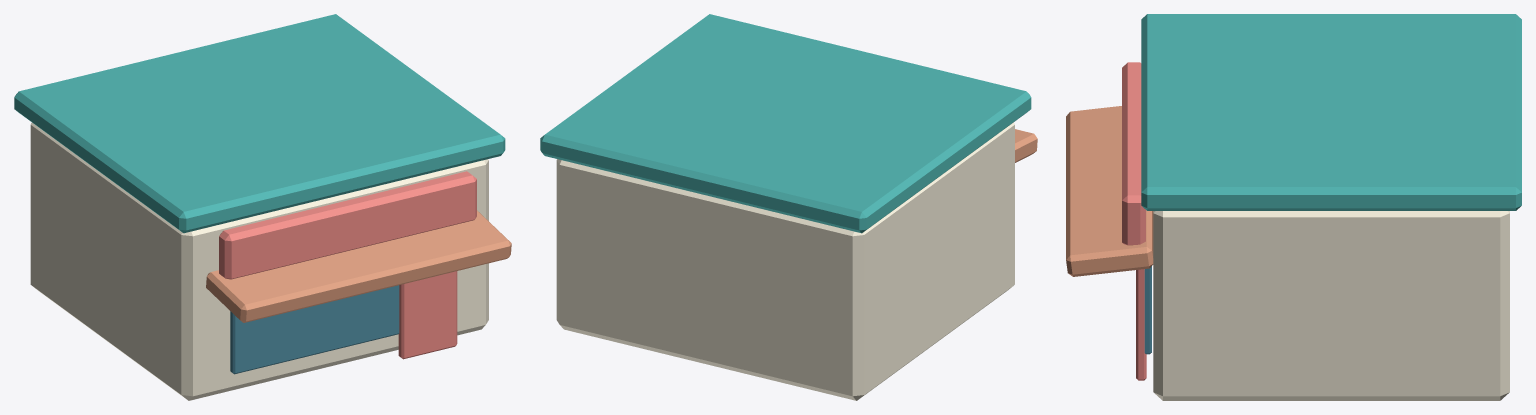
Rendered from COM_LOW_1x1_001.glb.
3 renders of one model, left to right at view 1: azimuth 30°, elevation 25°; view 2: azimuth 150°, elevation 25°; view 3: azimuth 270°, elevation 25°, orthographic. The views are drawn at different scales.
Parts seen in each view (by area): view 1: COM_LOW_1x1_001_Visual; view 2: COM_LOW_1x1_001_Visual; view 3: COM_LOW_1x1_001_Visual.
Part boxes in pixels (box(x1,y1,x2,y2)): COM_LOW_1x1_001_Visual: box(14, 14, 511, 400); COM_LOW_1x1_001_Visual: box(540, 14, 1037, 400); COM_LOW_1x1_001_Visual: box(1066, 14, 1521, 400).
Size of what is drawn, in the model's own units: 1.75 by 1.01 by 1.89.
